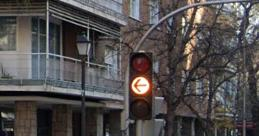yellow_light: (129, 52, 152, 120)
